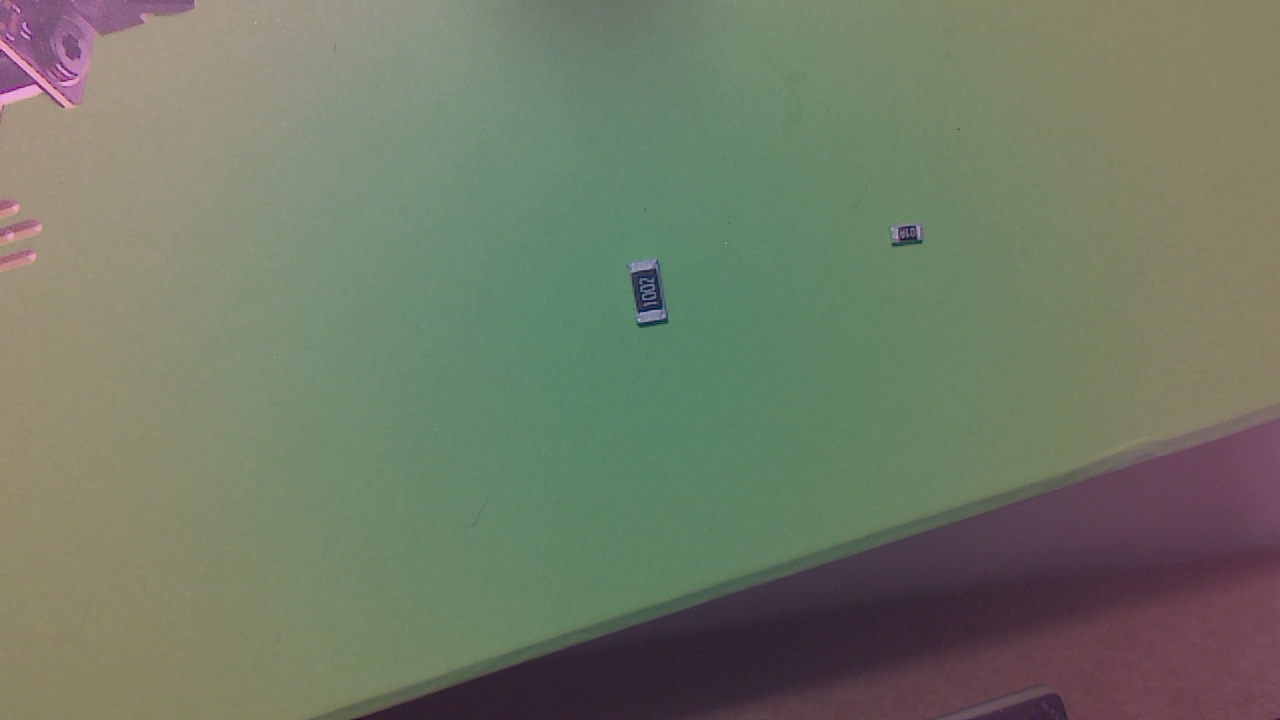Resistor: (633, 260, 671, 334), (896, 228, 927, 251)
